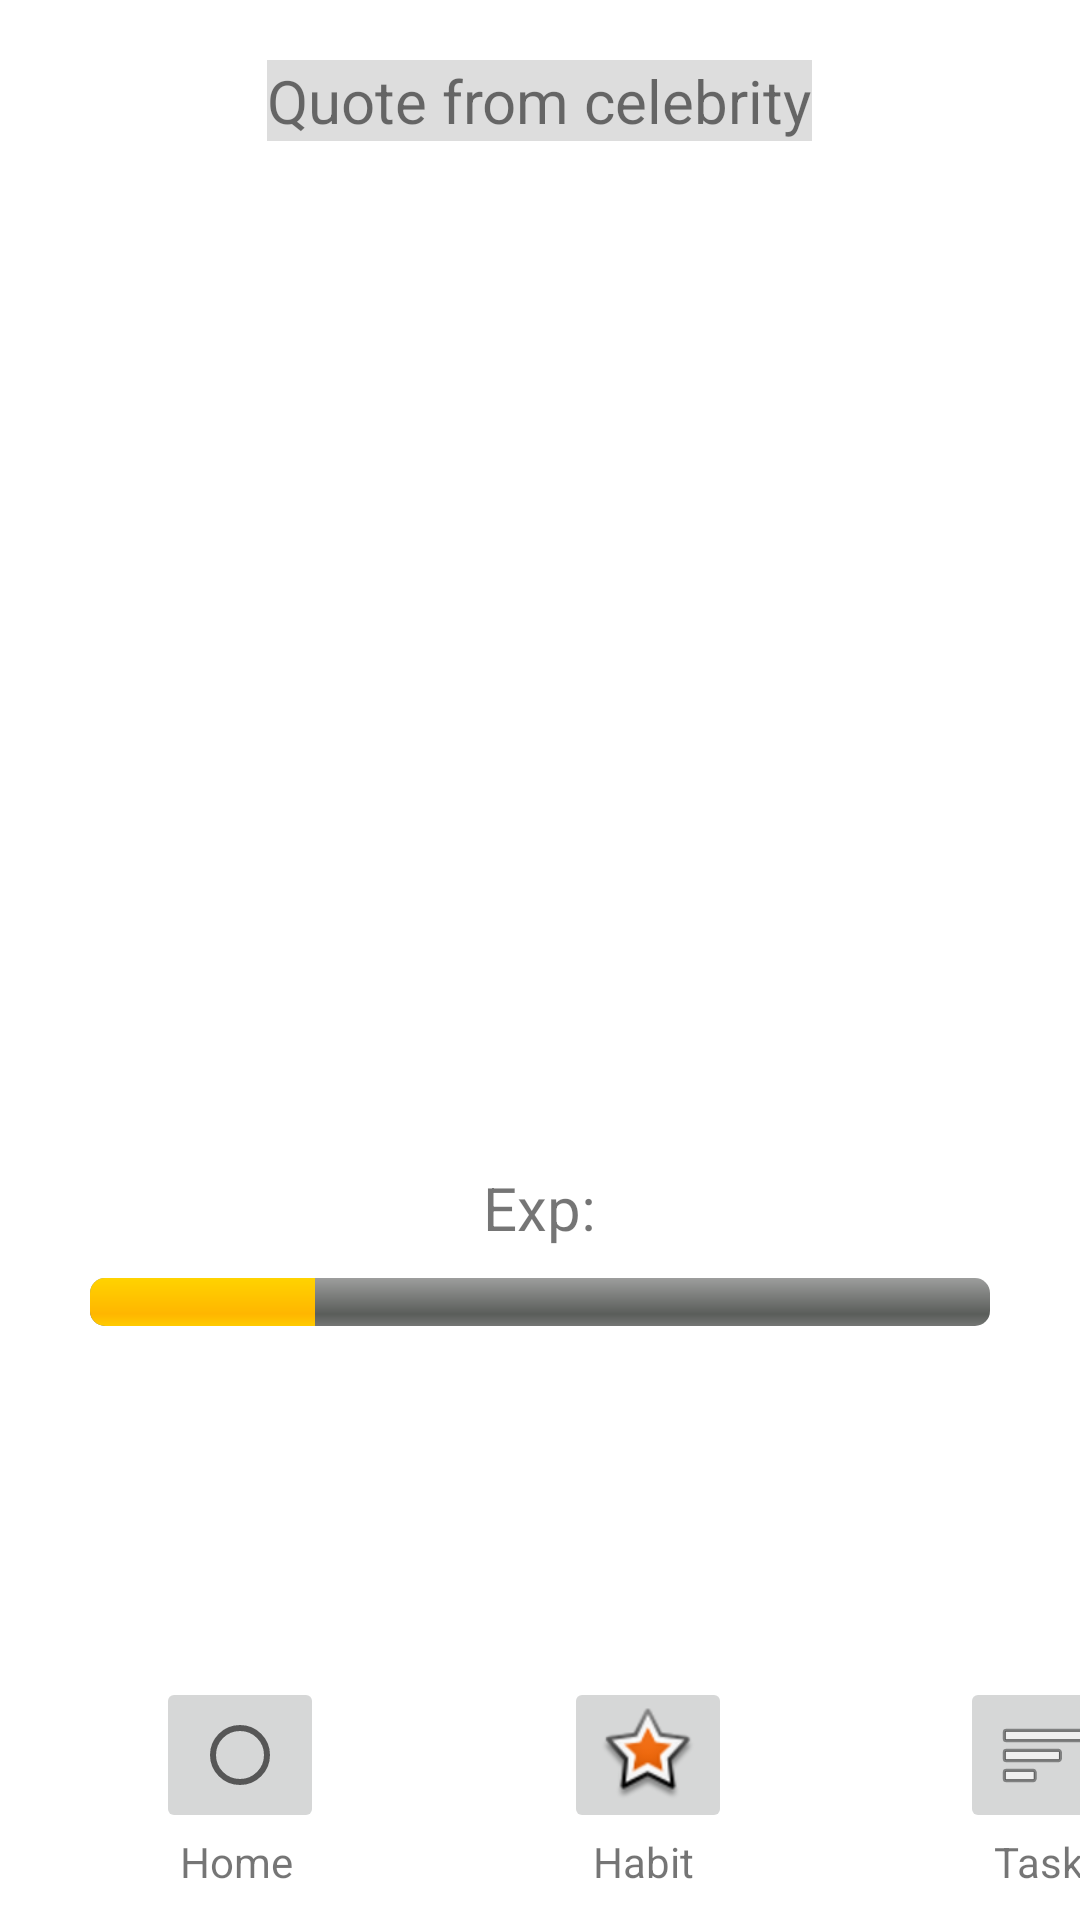

Icon bounding boxes for this 1080px x 1920px phone screenshot, format (x1,y1,x2,y2):
star on: (576,1695,720,1815)
